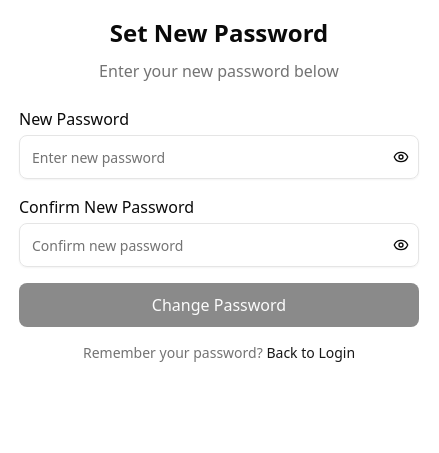
Test: ChangePasswordForm › submits to auth.changePassword
Step 1. Type "abc123!@" into the password field labelled "New Password" → coordinates (219, 157), box [19,135,419,179]
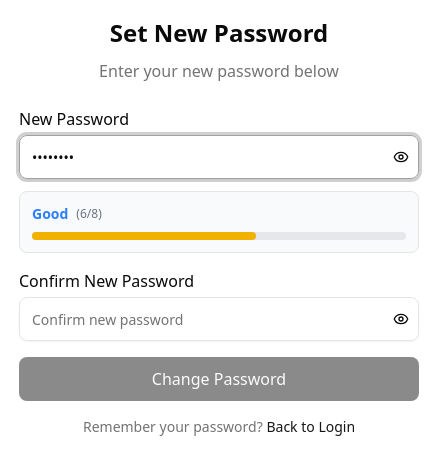
Step 2. Type "abc123!@" into the password field labelled "Confirm New Password" → coordinates (219, 319), box [19,297,419,341]
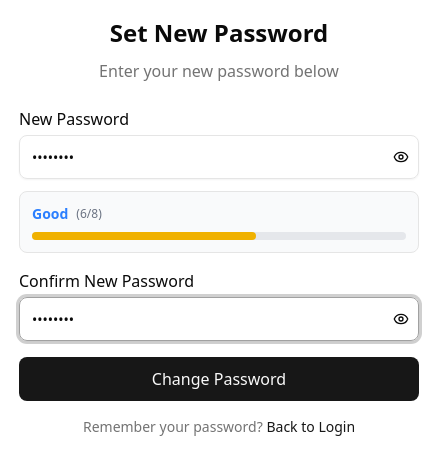
Step 3. Click the button "Change Password" → coordinates (219, 379), box [19,357,419,401]
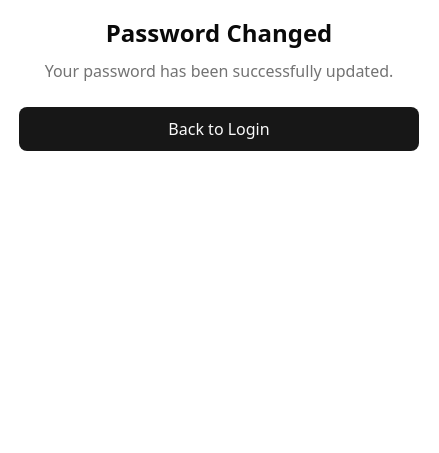
Expected: the text "Password Changed" is shown, [106,16,332,49]
